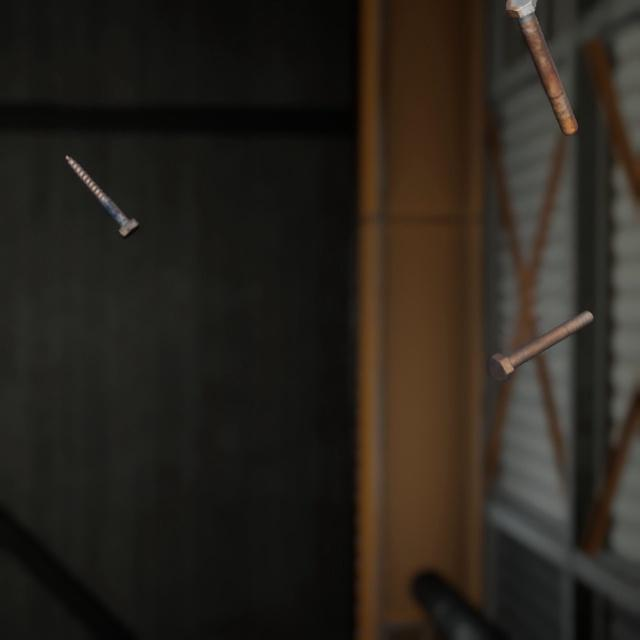bolt: (501, 0, 582, 130), (483, 288, 597, 368), (61, 136, 144, 228)
